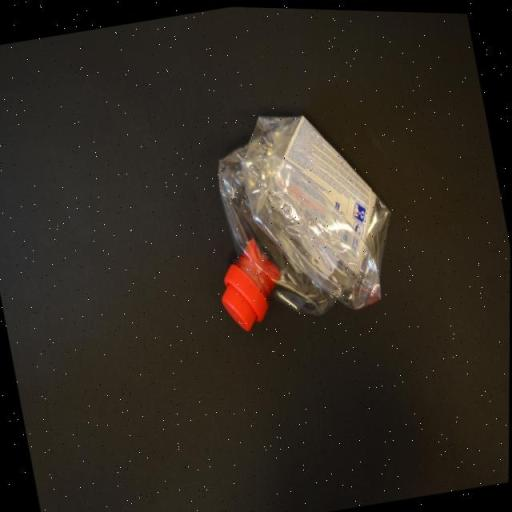plastic: (185, 89, 413, 342)
